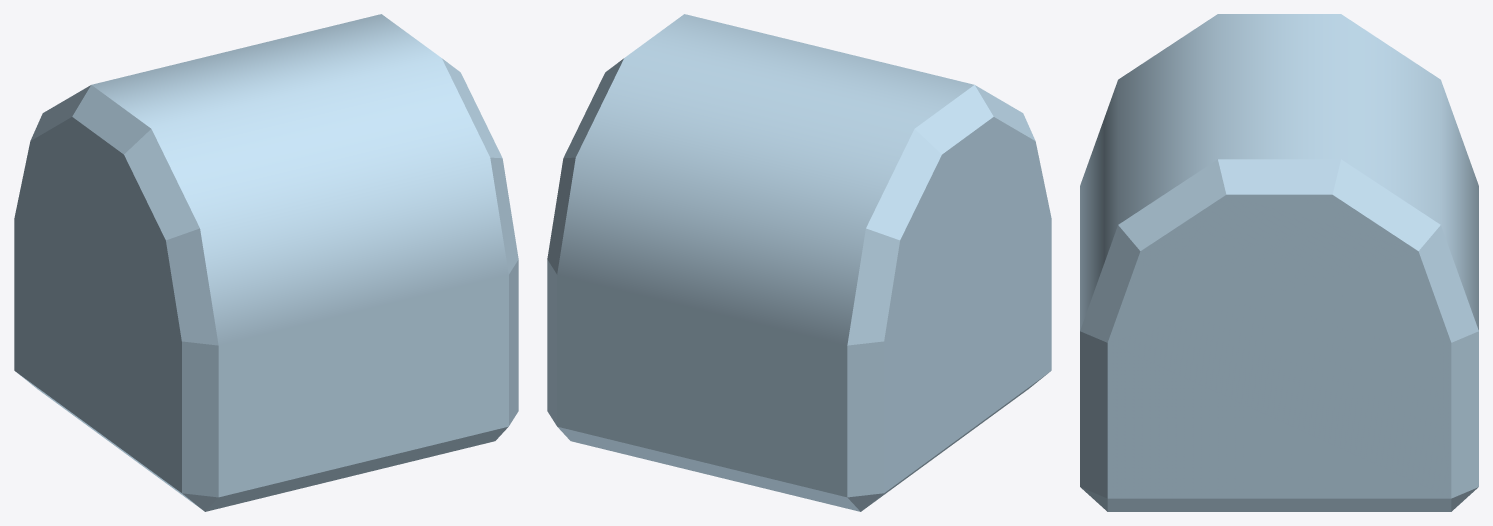
File: R4B_RoundTop.glb
3 views of the same model, side by side, from view 1: azimuth 30°, elevation 25°; view 2: azimuth 150°, elevation 25°; view 3: azimuth 270°, elevation 25° (orthographic). The views are drawn at different scales.
Visible parts, largest first — view 1: R4B_RoundTop; view 2: R4B_RoundTop; view 3: R4B_RoundTop.
Boxes of the visible parts, <box> form: R4B_RoundTop: <box>14,14,518,511</box>; R4B_RoundTop: <box>547,14,1051,511</box>; R4B_RoundTop: <box>1080,14,1478,511</box>.
Size of the model in its own units: 0.52 by 0.5073 by 0.52.
